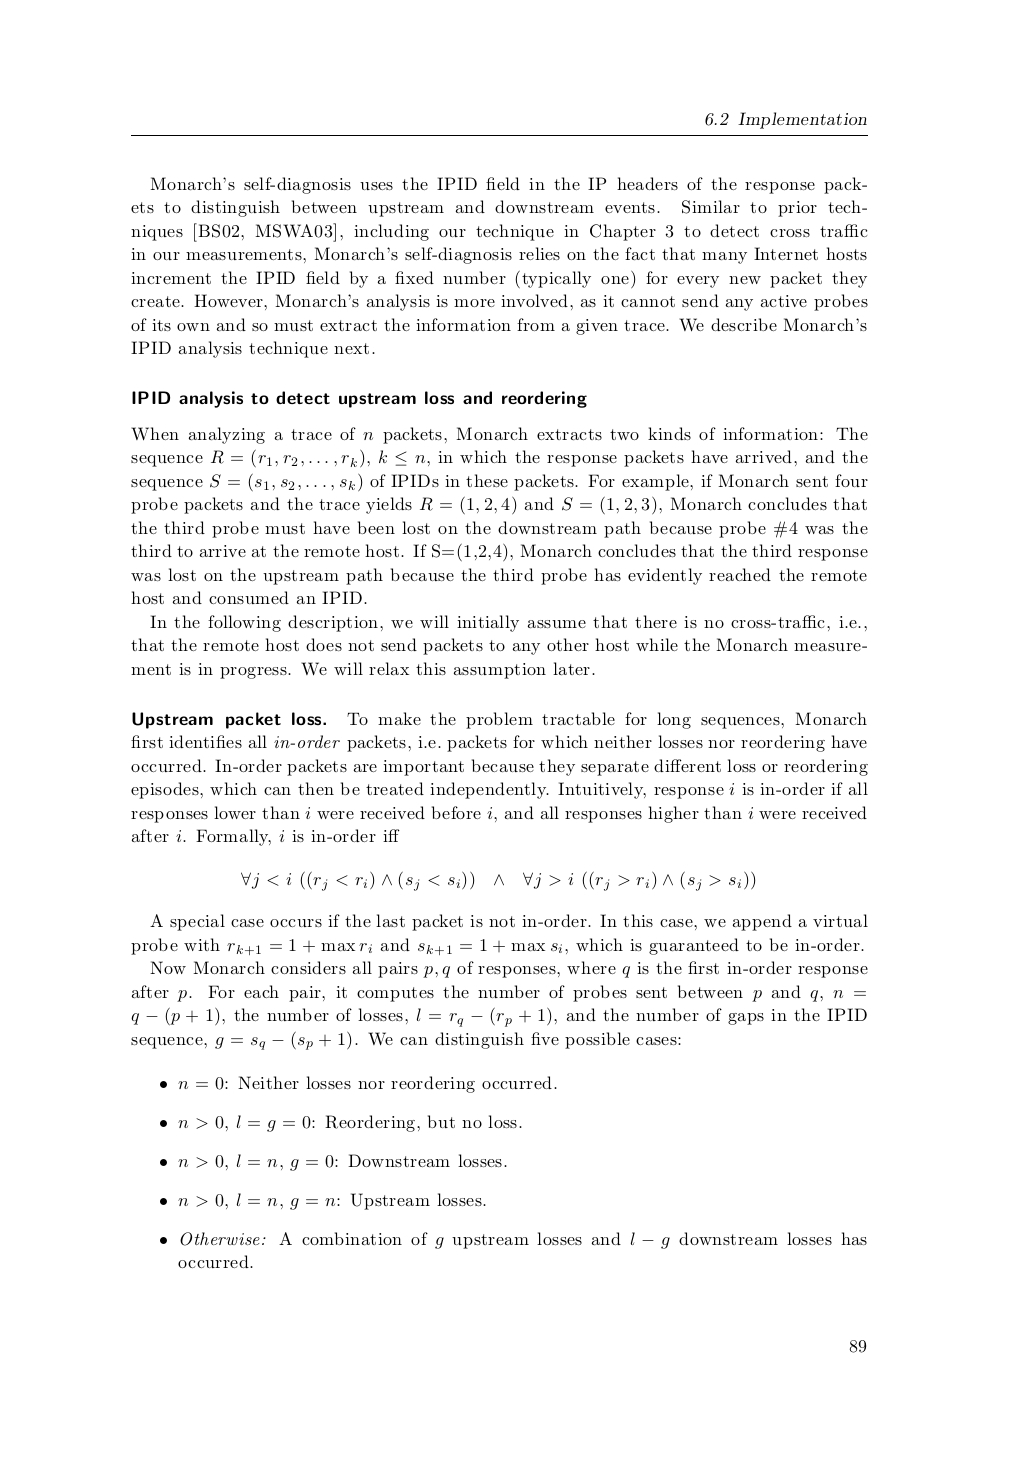formula: (241, 870, 755, 891)
